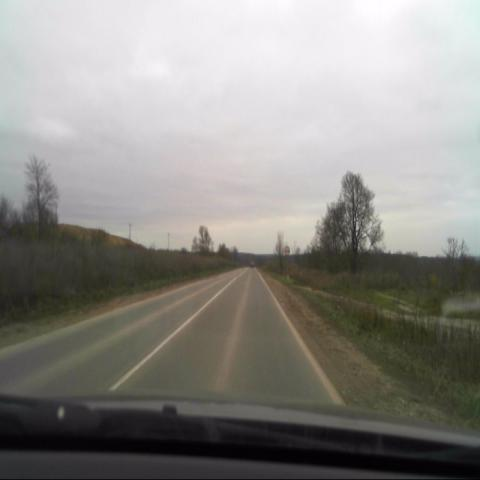3_20: (284, 245, 290, 257)
